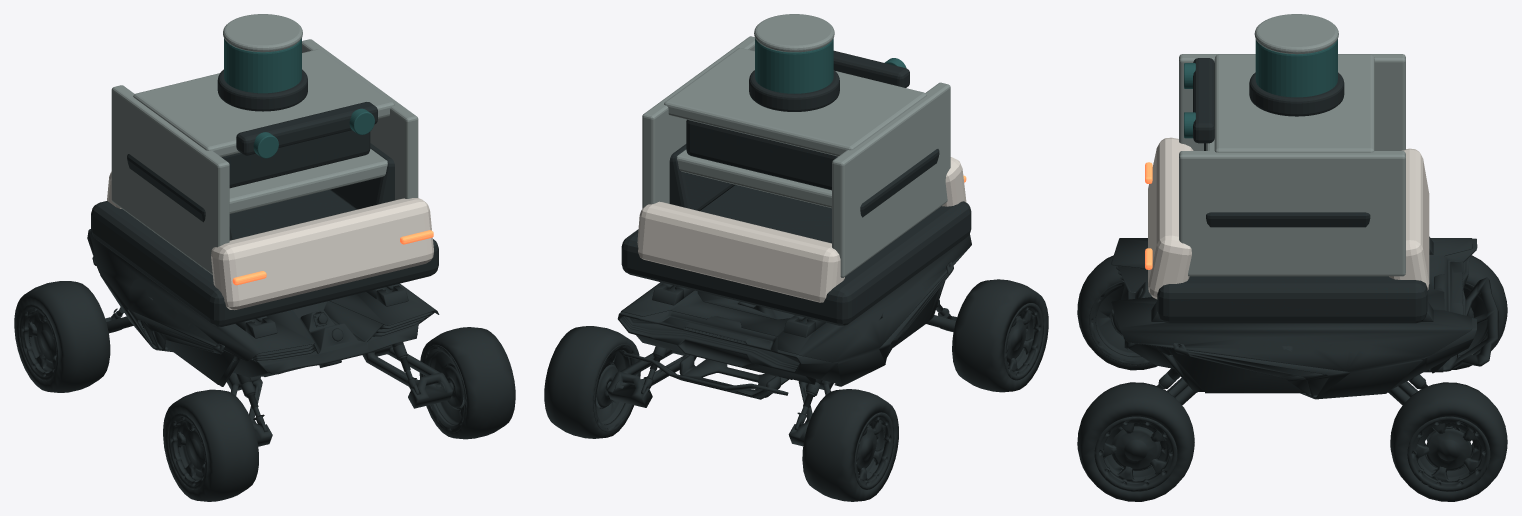
File: scout-mini.glb
3 renders of one model, left to right at view 1: azimuth 30°, elevation 25°; view 2: azimuth 150°, elevation 25°; view 3: azimuth 270°, elevation 25°, orthographic. The views are drawn at different scales.
Visible parts, largest first — view 1: SCOUT_CAMERA_BAR, SCOUT_SIGNAL_+0.47; view 2: SCOUT_CAMERA_BAR; view 3: SCOUT_CAMERA_BAR.
Boxes of the visible parts, x1,y1,x2,y2 form: SCOUT_CAMERA_BAR: (14,14,515,501); SCOUT_SIGNAL_+0.47: (232,230,433,285); SCOUT_CAMERA_BAR: (544,14,1048,501); SCOUT_CAMERA_BAR: (1077,14,1507,501).
Bounding box in the file's own units: 1.71 × 2.04 × 1.99.
2 materials, 2 textured.
